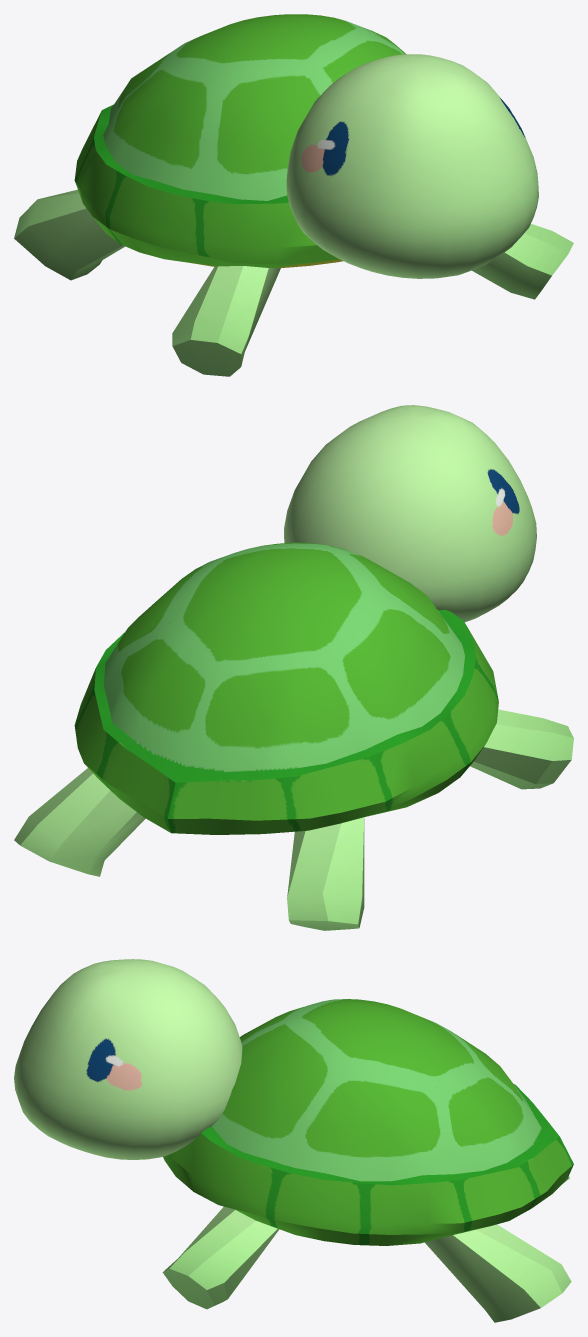
Rendered from Turtlefbx.fbx.
3 views of the same model, one above another, from view 1: azimuth 30°, elevation 25°; view 2: azimuth 150°, elevation 25°; view 3: azimuth 270°, elevation 25° (orthographic). The views are drawn at different scales.
Visible parts, largest first — view 1: Body, Head, Legs; view 2: Body, Head, Legs; view 3: Body, Head, Legs.
Boxes of the visible parts, x1,y1,x2,y2 form: Body: [74, 14, 406, 268]; Head: [286, 54, 538, 278]; Legs: [14, 189, 573, 376]; Body: [74, 542, 498, 834]; Head: [284, 405, 536, 621]; Legs: [14, 709, 573, 930]; Body: [163, 999, 573, 1245]; Head: [14, 959, 242, 1159]; Legs: [162, 1176, 571, 1322].
Bounding box in the file's own units: 215 × 170 × 289.
